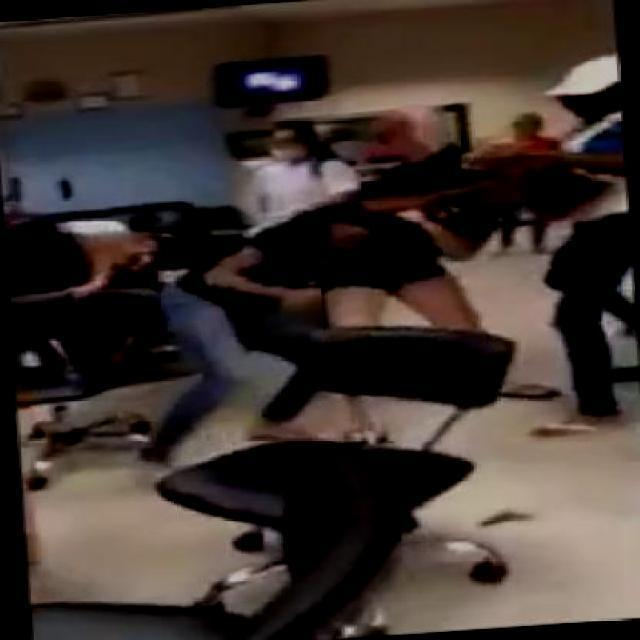fight: (106, 134, 580, 468)
